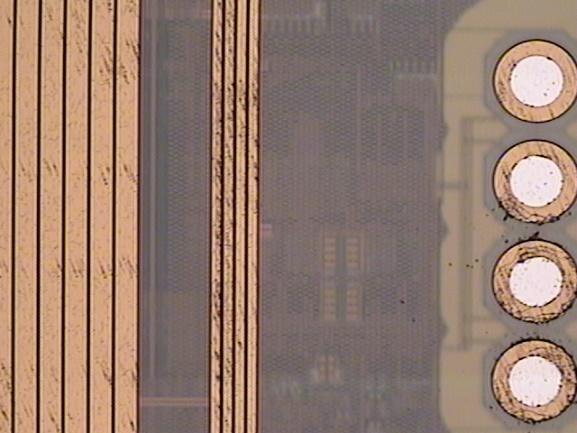SCRATCH: (1, 1, 577, 433)
